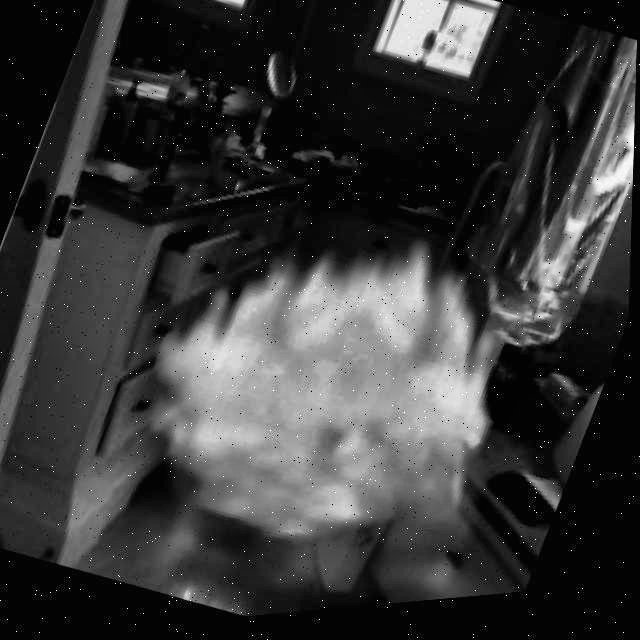Smoke: (72, 174, 630, 621)
